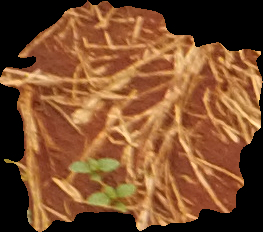soil: (3, 3, 258, 230)
